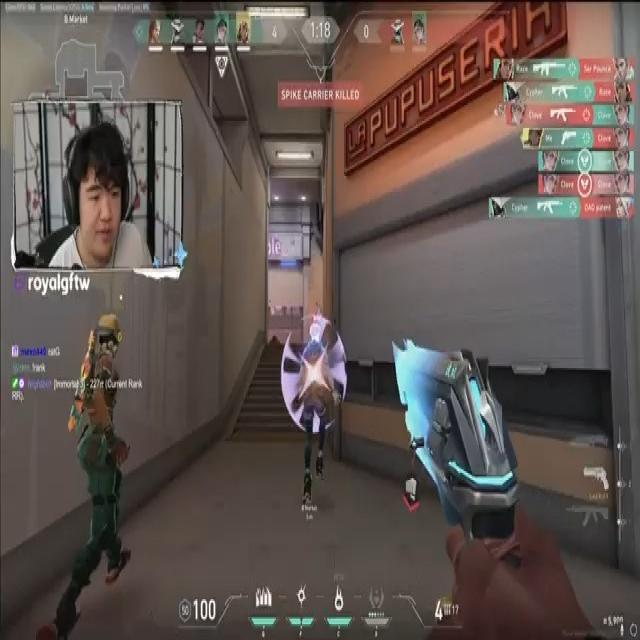ally: (49, 307, 132, 629)
